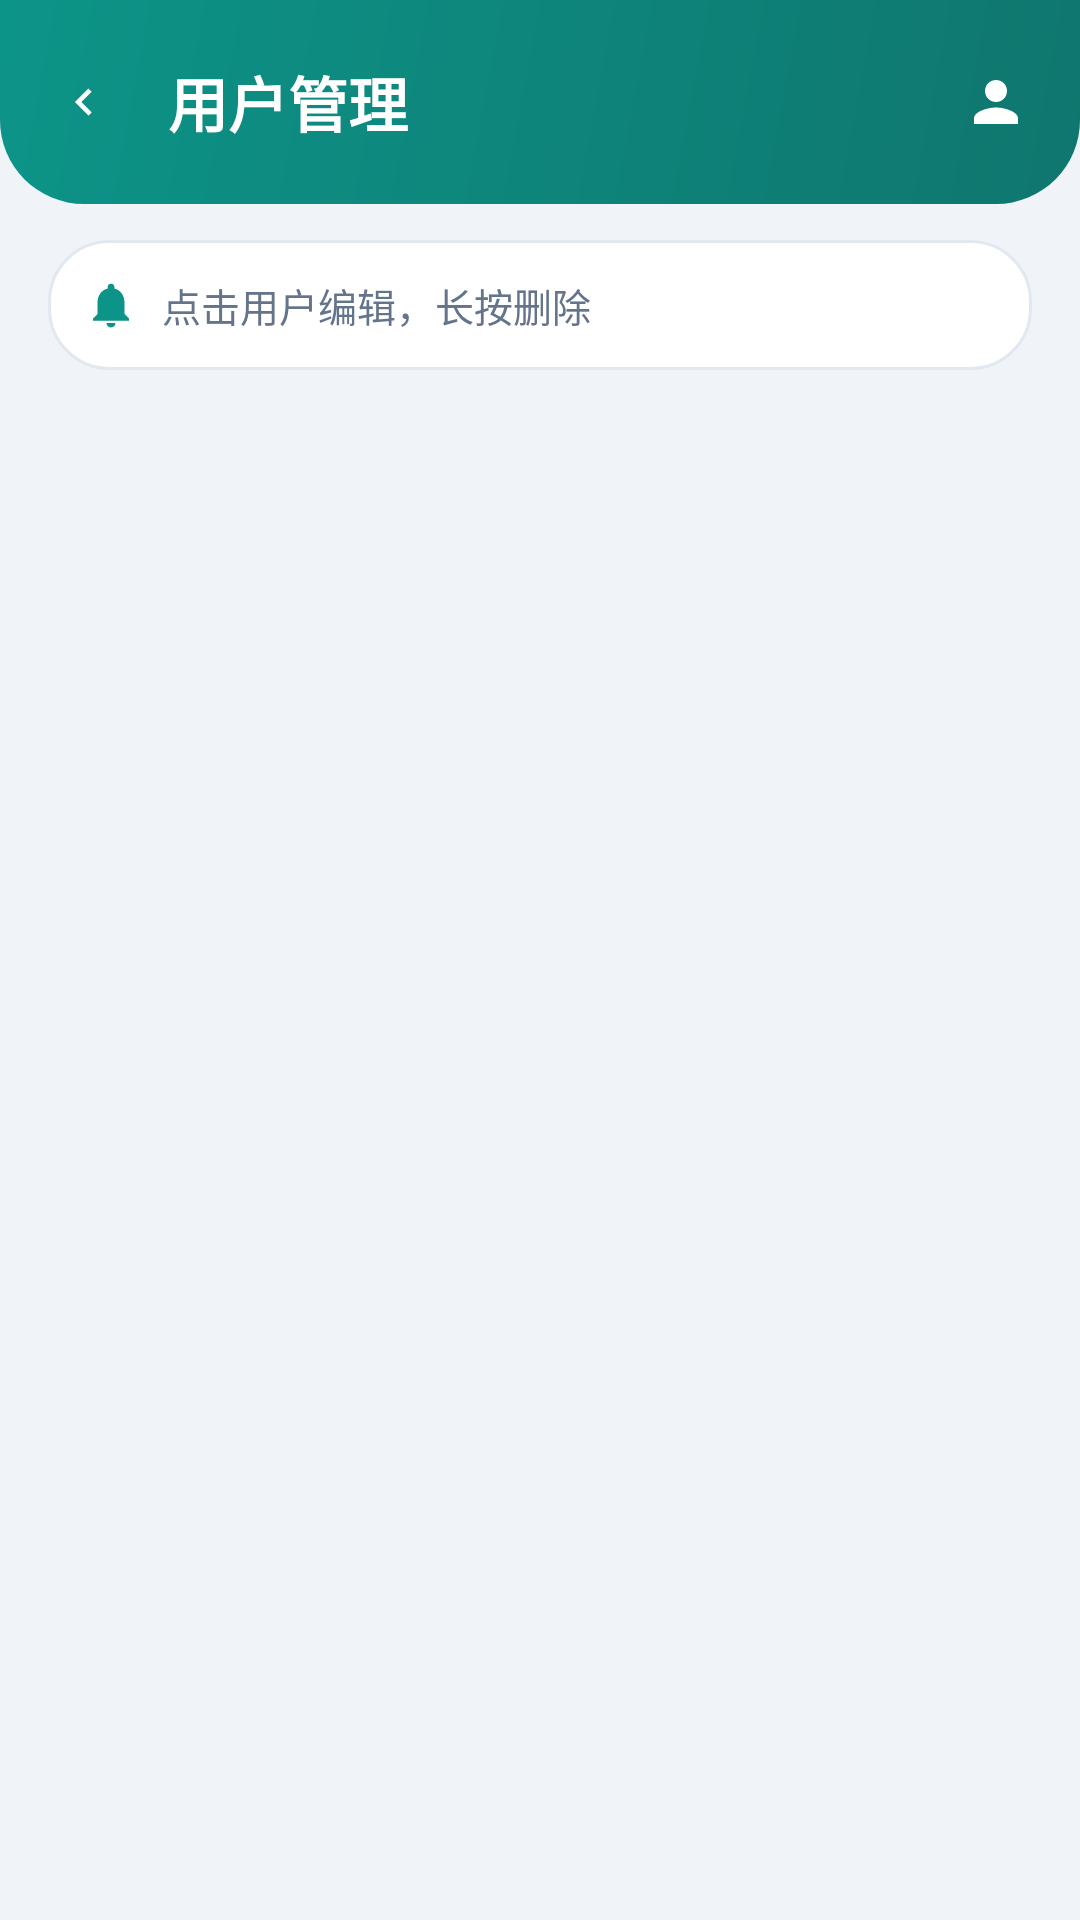

Icons on this 1080w x 1920h Android screen, each with its box as (x1, y1, x2, y2):
profile bell: (93, 283, 129, 328)
profile person: (974, 80, 1018, 124)
